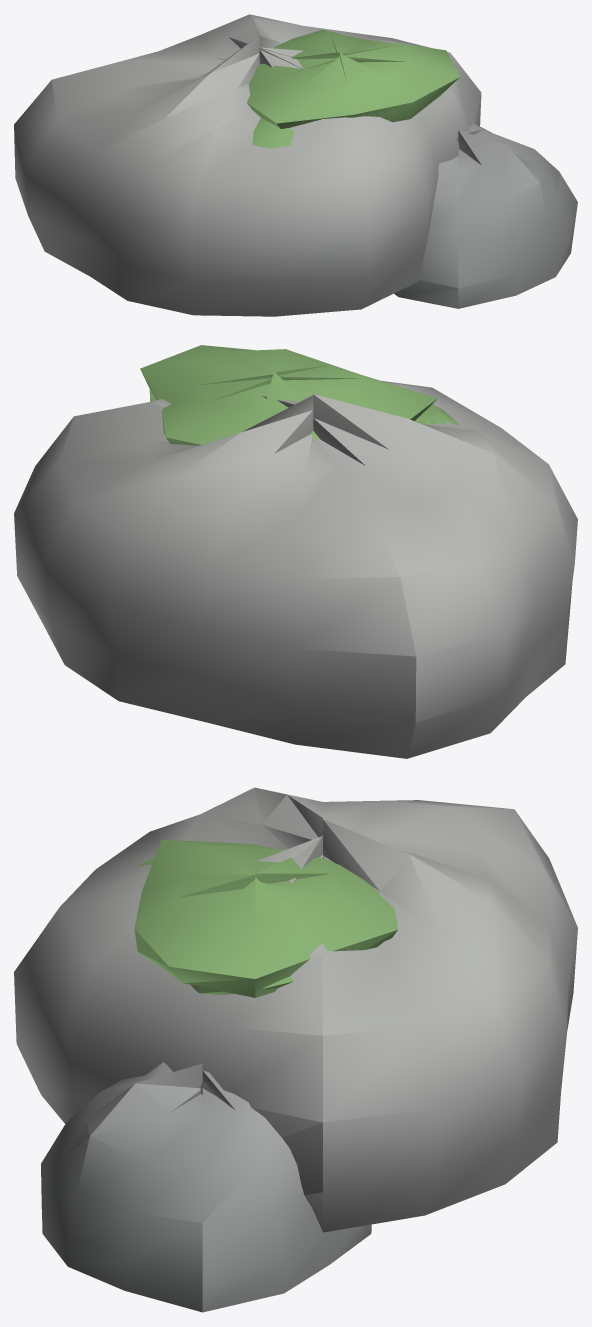
Rendered from cen_valak_rocha_0.glb.
3 views of the same model, one above another, from view 1: azimuth 30°, elevation 25°; view 2: azimuth 150°, elevation 25°; view 3: azimuth 270°, elevation 25° (orthographic). The views are drawn at different scales.
Visible parts, largest first — view 1: rocha; view 2: rocha; view 3: rocha.
Boxes of the visible parts, x1,y1,x2,y2 form: rocha: (14,14,577,316); rocha: (14,345,577,758); rocha: (14,787,577,1312).
Size of the model in its own units: 1.87 by 0.8561 by 1.41.
